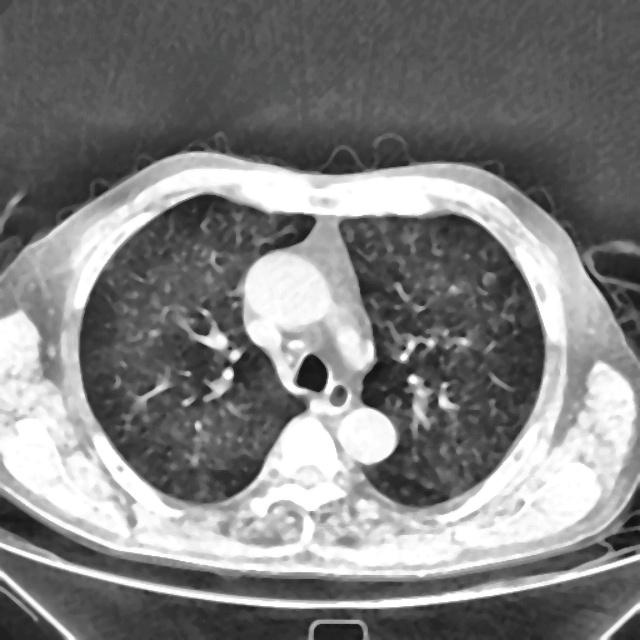covid: (0, 146, 639, 583)
